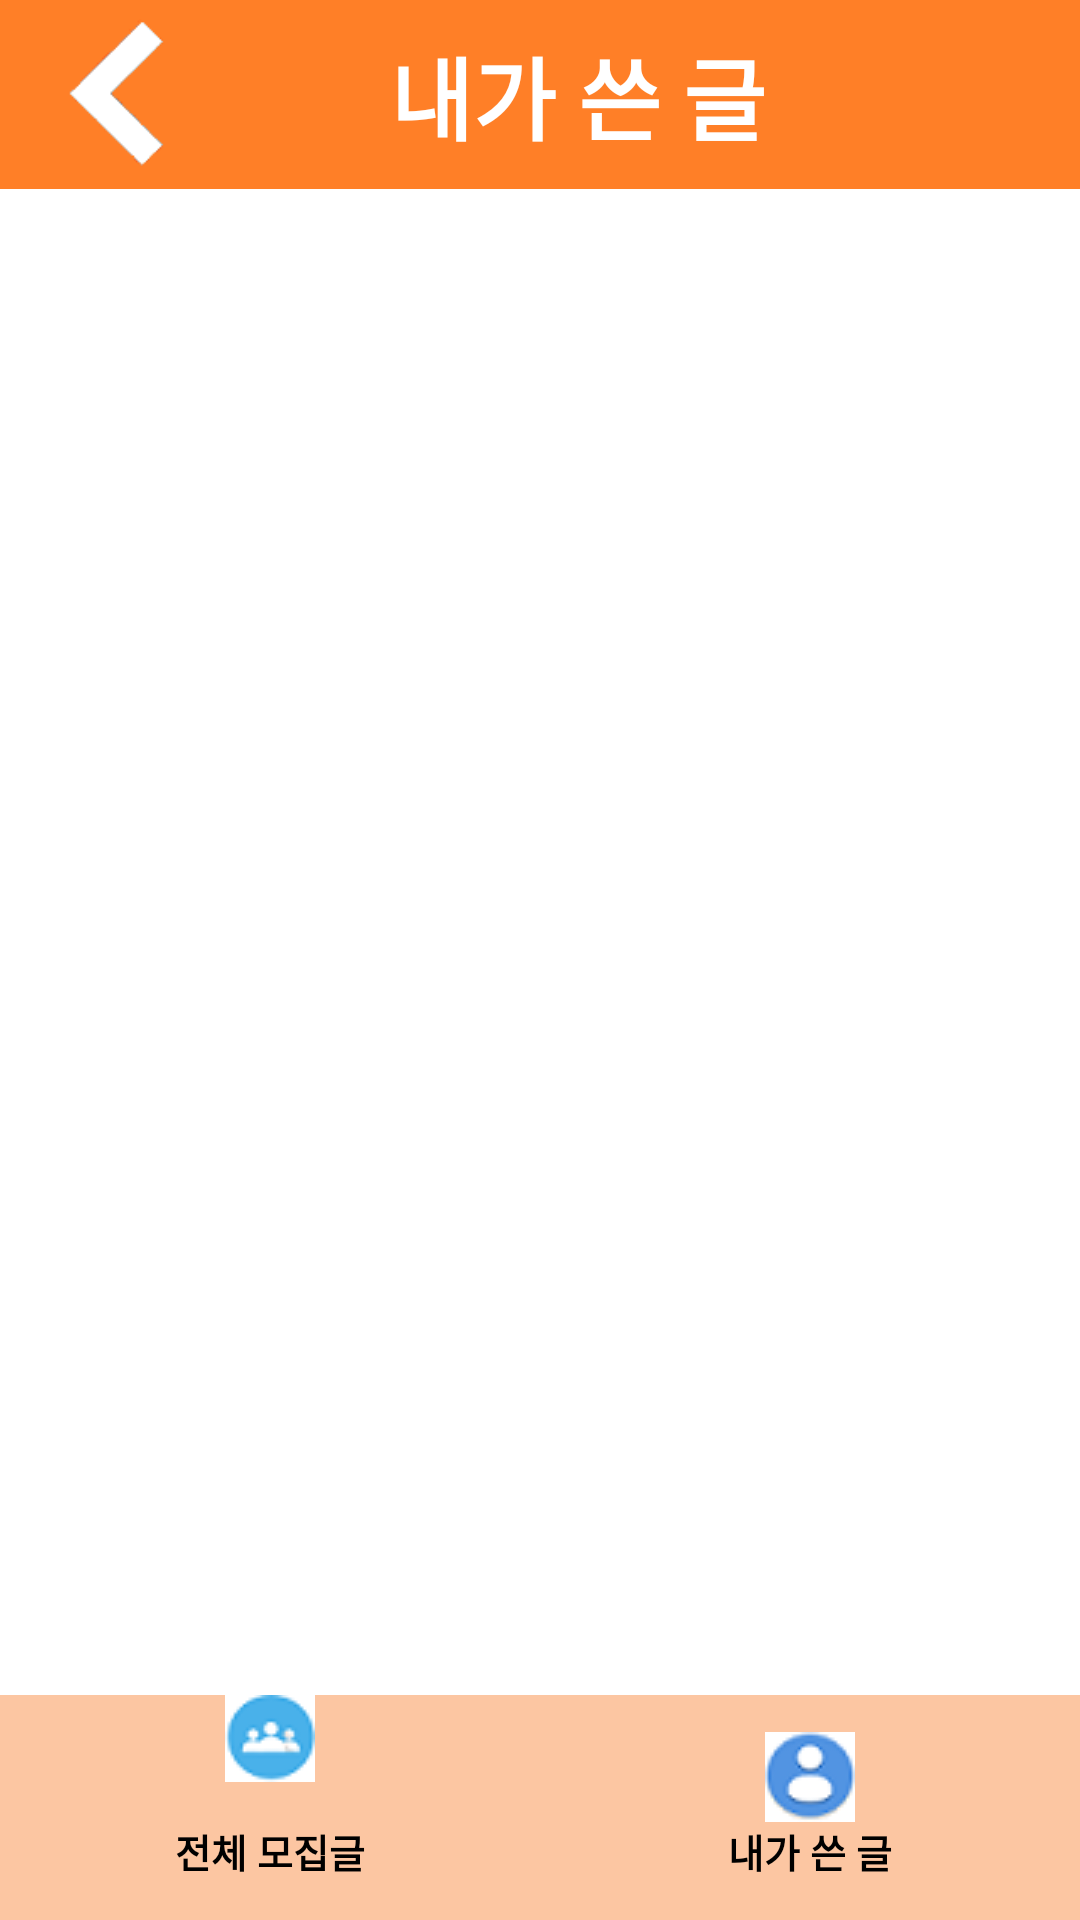

Named icons in this screenshot (1080x1920) and their bounding boxes, (x1, y1, x2, y2):
backicon: (69, 22, 163, 166)
